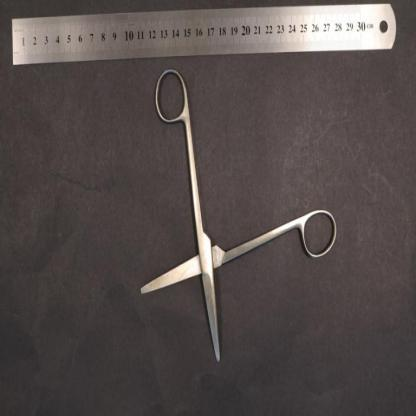Curved Mayo Scissors: (140, 68, 337, 362)
